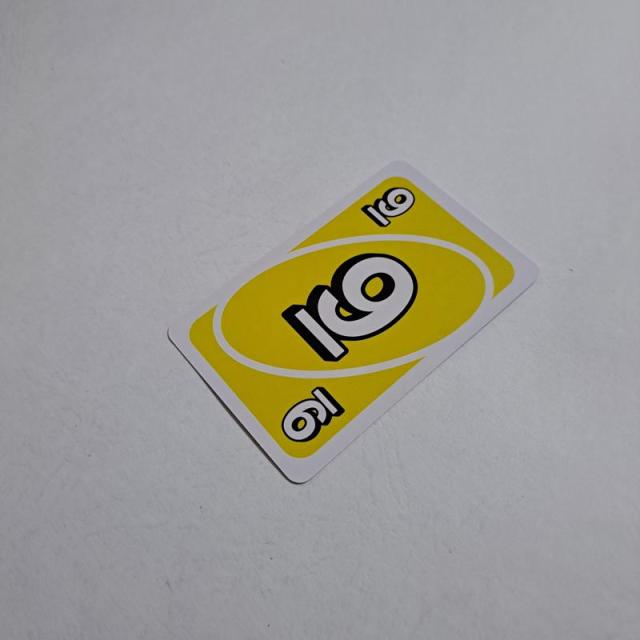Number_9: (357, 180, 424, 232)
Yellow_Card: (186, 170, 519, 463)
